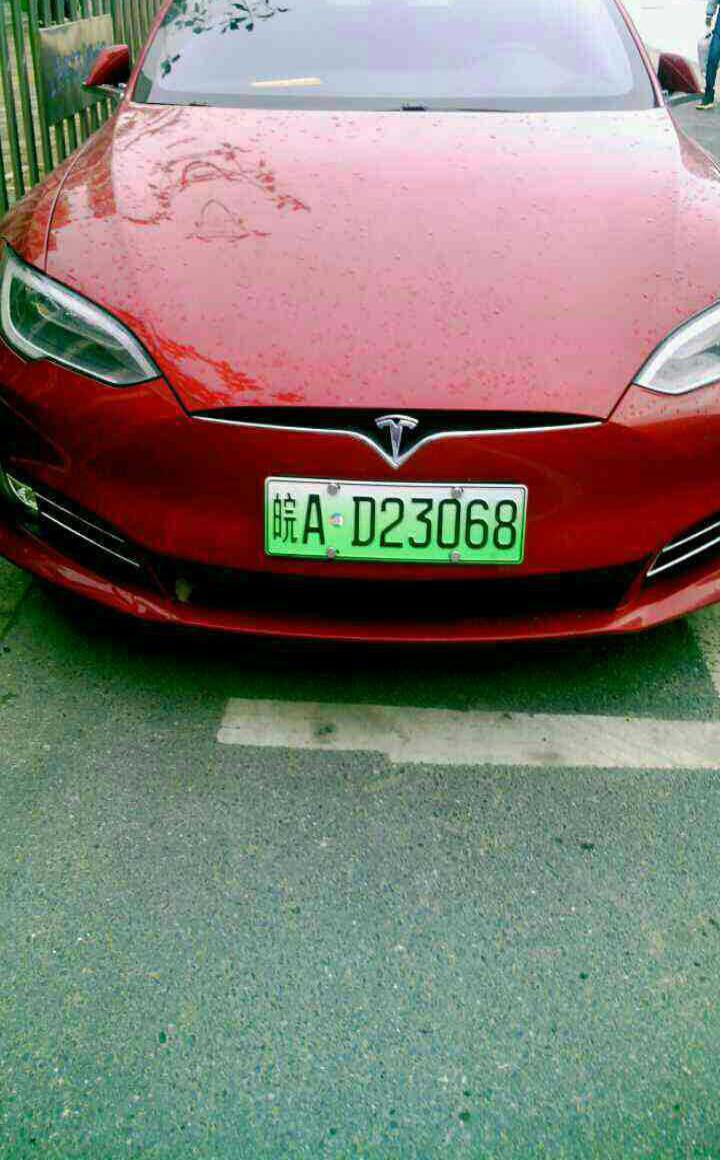car_id: (265, 479, 526, 562)
